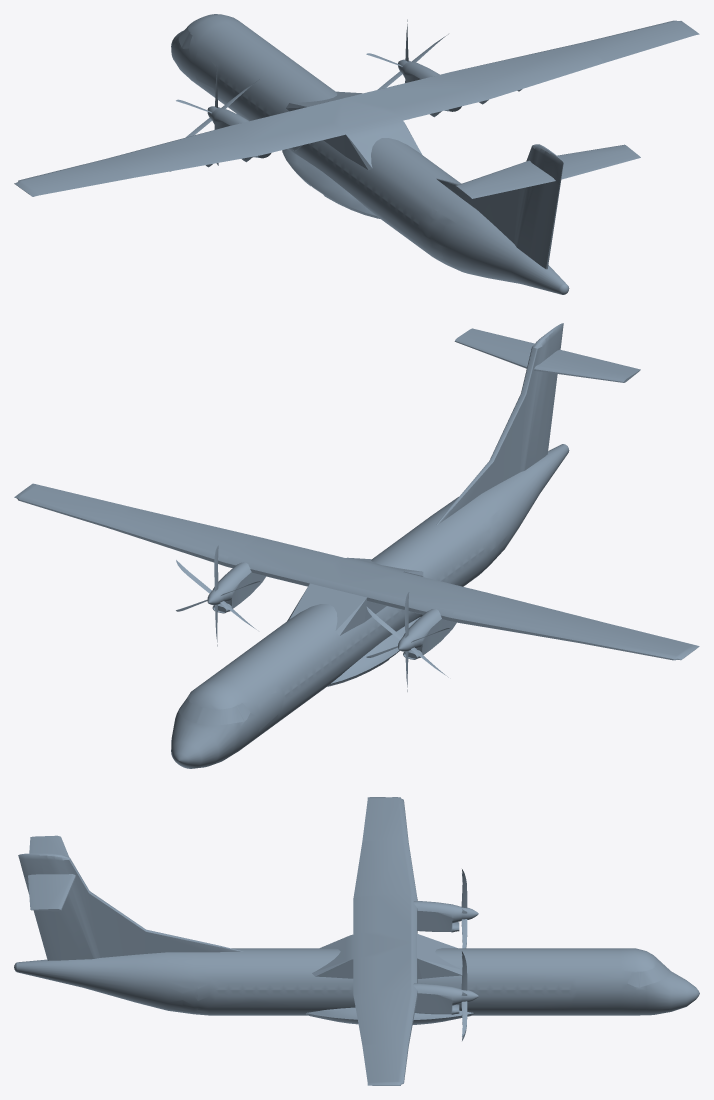
Rendered from ATR72-500.glb.
3 renders of one model, top to bottom at view 1: azimuth 30°, elevation 25°; view 2: azimuth 150°, elevation 25°; view 3: azimuth 270°, elevation 25°, orthographic. The views are drawn at different scales.
Bounding box in the file's own units: 27.04 × 7.19 × 27.17.
